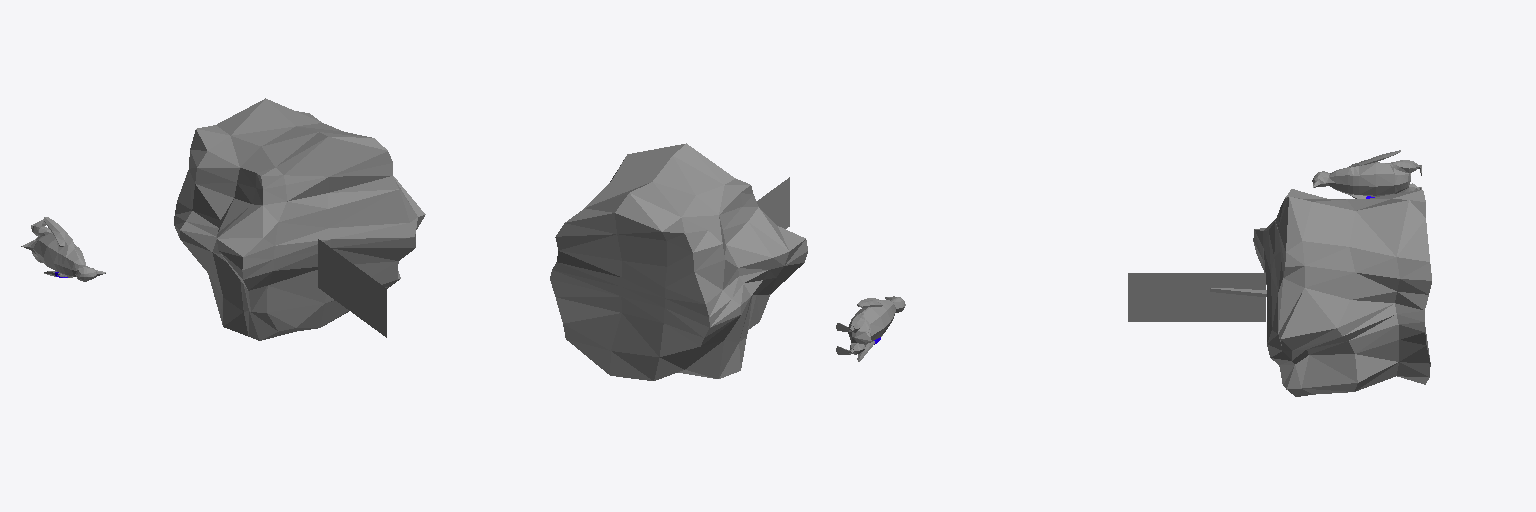
File: grape_kun.obj
3 views of the same model, side by side, from view 1: azimuth 30°, elevation 25°; view 2: azimuth 150°, elevation 25°; view 3: azimuth 270°, elevation 25° (orthographic).
Visible parts, largest first — view 1: Box004_Mesh.001, Plane001_Mesh.002, Box003_Mesh; view 2: Box004_Mesh.001, Box003_Mesh, Plane001_Mesh.002; view 3: Box004_Mesh.001, Plane001_Mesh.002, Box003_Mesh.
Part boxes in pixels (left/top/right/bottom): Box004_Mesh.001: left=174, top=98, right=425, bottom=340; Plane001_Mesh.002: left=318, top=239, right=386, bottom=337; Box003_Mesh: left=21, top=217, right=105, bottom=281; Box004_Mesh.001: left=550, top=143, right=807, bottom=380; Box003_Mesh: left=836, top=296, right=905, bottom=361; Plane001_Mesh.002: left=757, top=177, right=789, bottom=228; Box004_Mesh.001: left=1253, top=189, right=1431, bottom=396; Plane001_Mesh.002: left=1128, top=273, right=1265, bottom=321; Box003_Mesh: left=1312, top=150, right=1421, bottom=198.
Size of the model in its own units: 2.05 by 1.12 by 1.59.